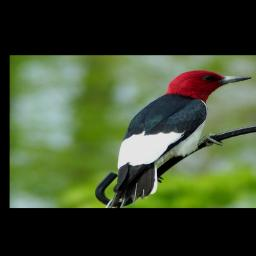Woodpecker: (101, 69, 255, 208)
